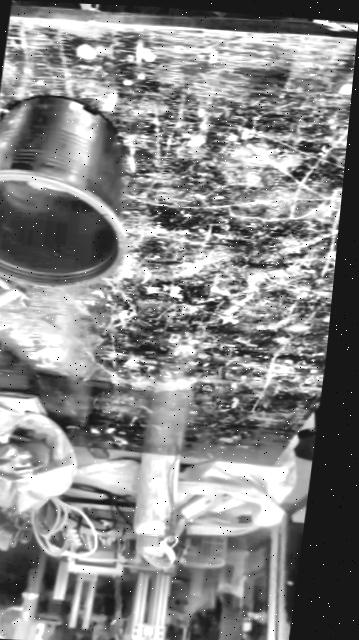pot: (0, 92, 144, 292)
